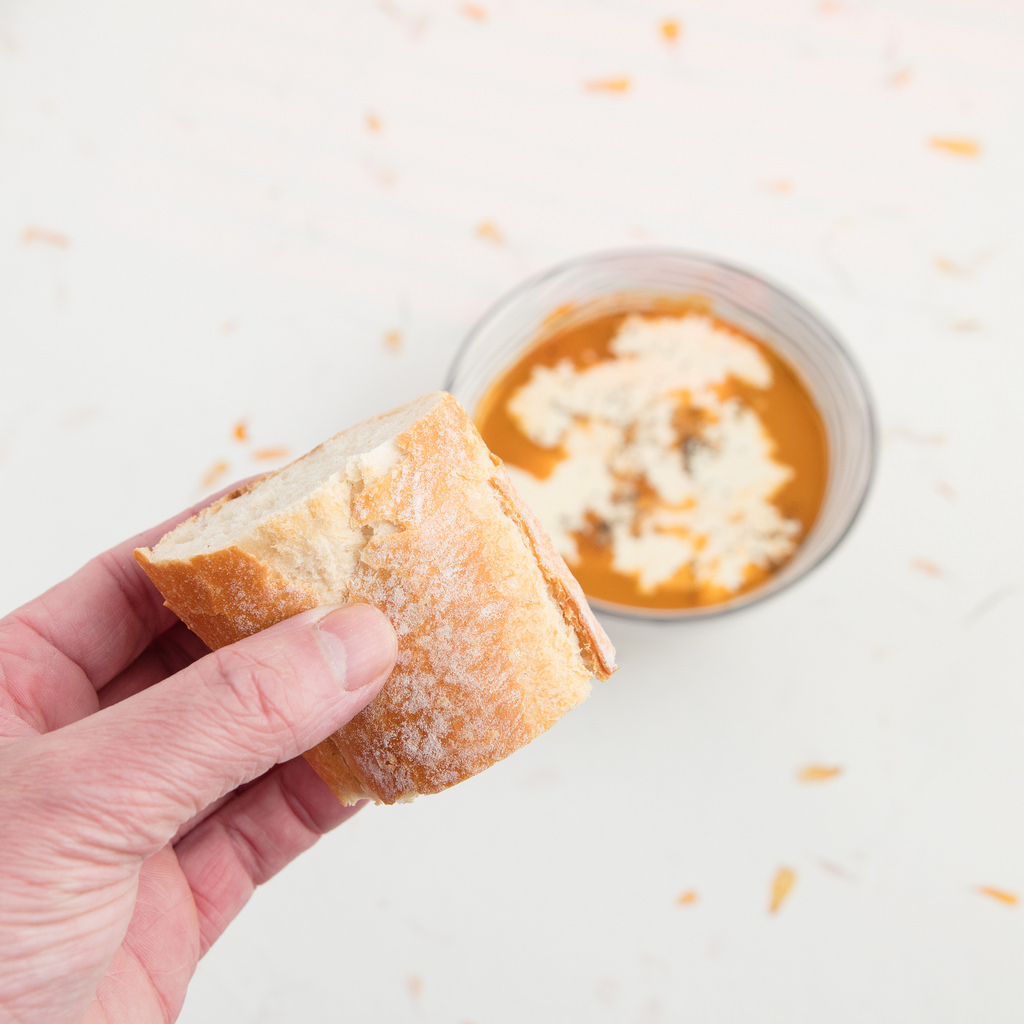slice of bread: (132, 407, 632, 832)
